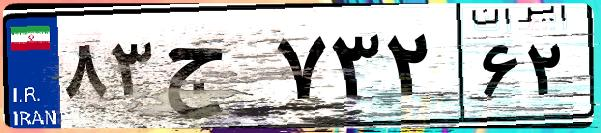2: (385, 28, 445, 110), (525, 38, 570, 115)
3: (330, 28, 385, 110), (110, 28, 158, 98)
6: (475, 38, 525, 113)
7: (270, 28, 330, 110)
8: (57, 26, 110, 100)
ج: (158, 20, 270, 120)
